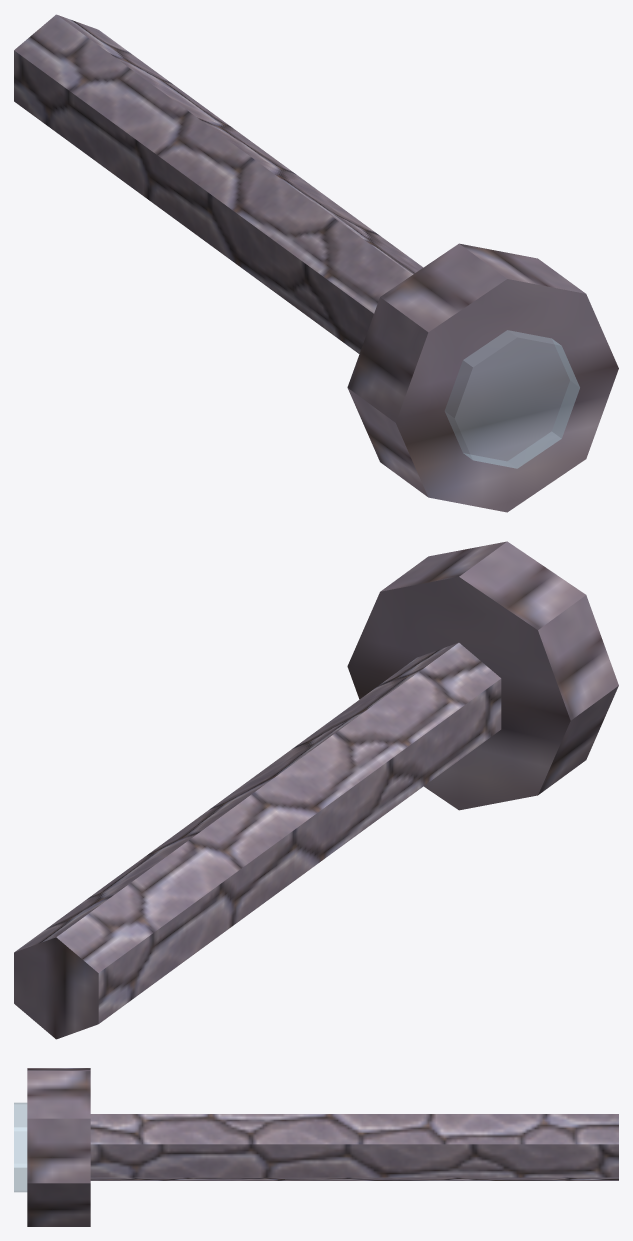
File: Door_Peephole.fbx
3 views of the same model, one above another, from view 1: azimuth 30°, elevation 25°; view 2: azimuth 150°, elevation 25°; view 3: azimuth 270°, elevation 25° (orthographic). The views are drawn at different scales.
Visible parts, largest first — view 1: Door_Peephole; view 2: Door_Peephole; view 3: Door_Peephole.
Boxes of the visible parts, <box> form: Door_Peephole: <box>14,14,618,512</box>; Door_Peephole: <box>14,541,618,1039</box>; Door_Peephole: <box>14,1068,618,1226</box>.
Bounding box in the file's own units: 0.032 × 0.032 × 0.1145.
